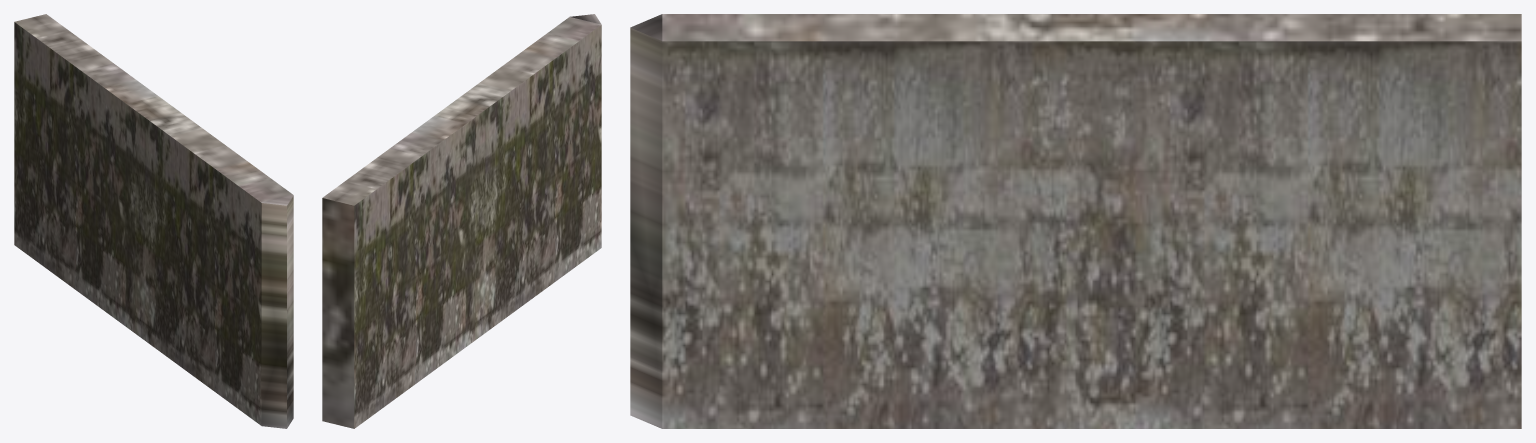
The model's file is wall3.obj.
The picture shows the model from 3 angles, left to right: view 1: azimuth 30°, elevation 25°; view 2: azimuth 150°, elevation 25°; view 3: azimuth 270°, elevation 25°; orthographic projection. The views are drawn at different scales.
Parts seen in each view (by area): view 1: Wall_Cube.002; view 2: Wall_Cube.002; view 3: Wall_Cube.002.
Part boxes in pixels (left/top/right/bottom): Wall_Cube.002: left=14, top=14, right=293, bottom=428; Wall_Cube.002: left=322, top=14, right=601, bottom=428; Wall_Cube.002: left=630, top=14, right=1521, bottom=428.
Bounding box in the file's own units: 0.6427 × 4.27 × 8.9.
1 material, 1 textured.
